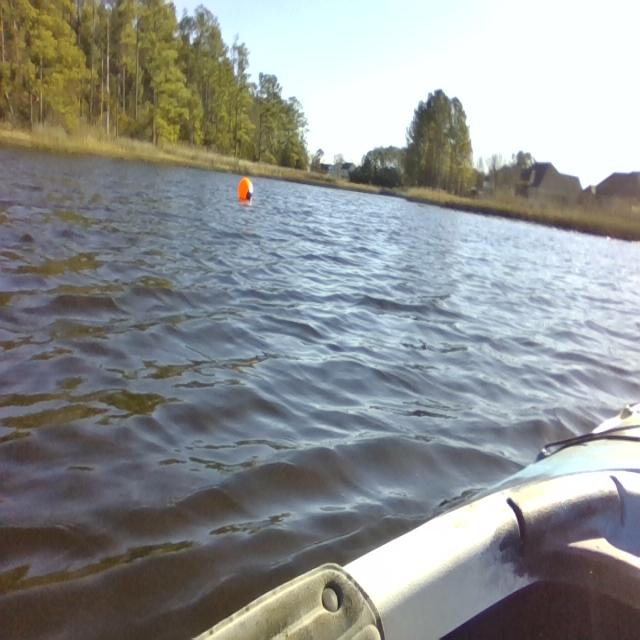Buoy: (234, 172, 257, 210)
